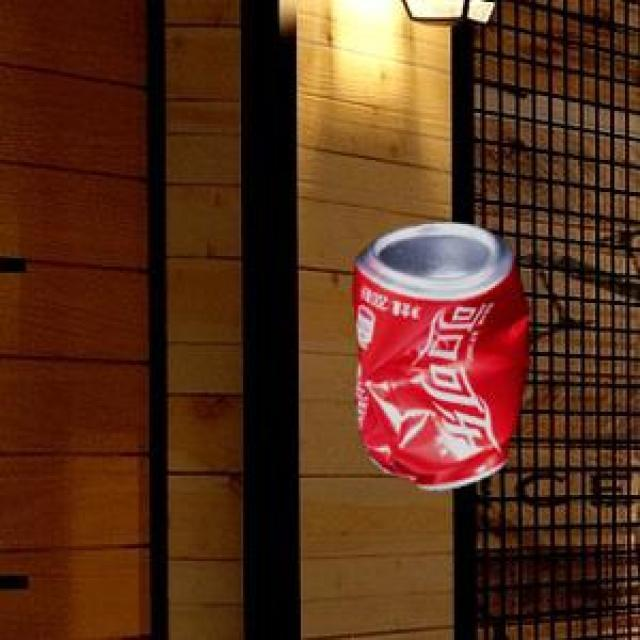Can: (349, 219, 526, 487)
